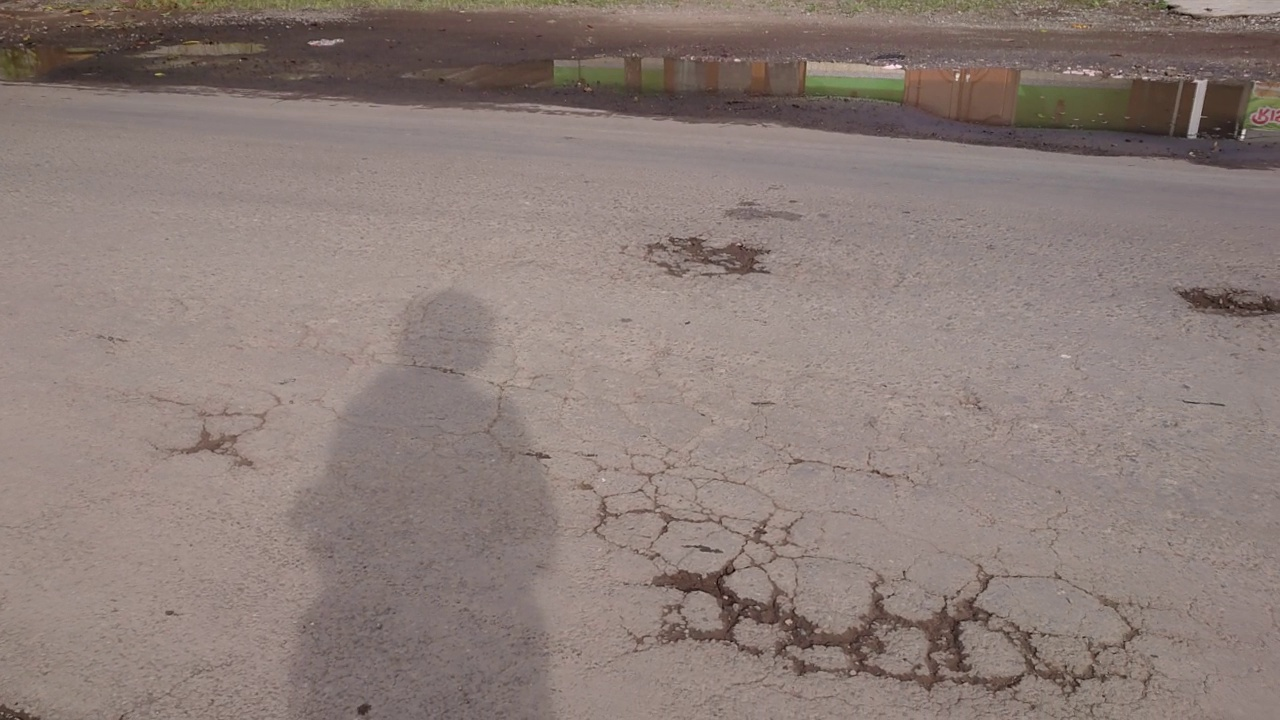Retak: (572, 460, 1179, 710), (1176, 273, 1280, 346), (645, 228, 771, 286), (180, 413, 286, 474)
